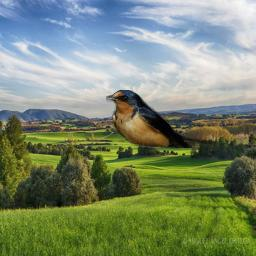Swallow: (106, 90, 224, 148)
